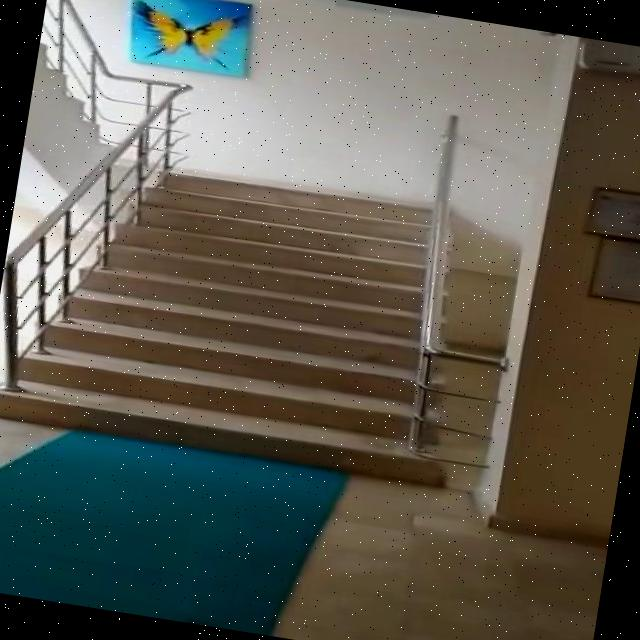stairs: (0, 141, 498, 489)
